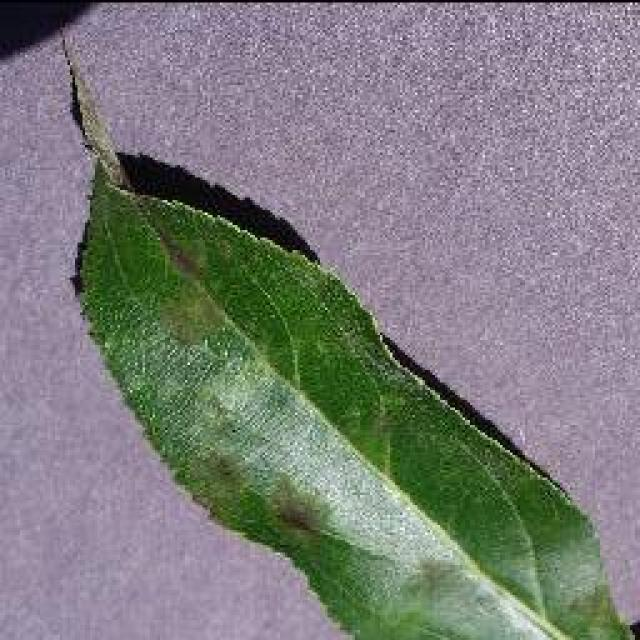apple scab disease: (55, 28, 637, 638)
